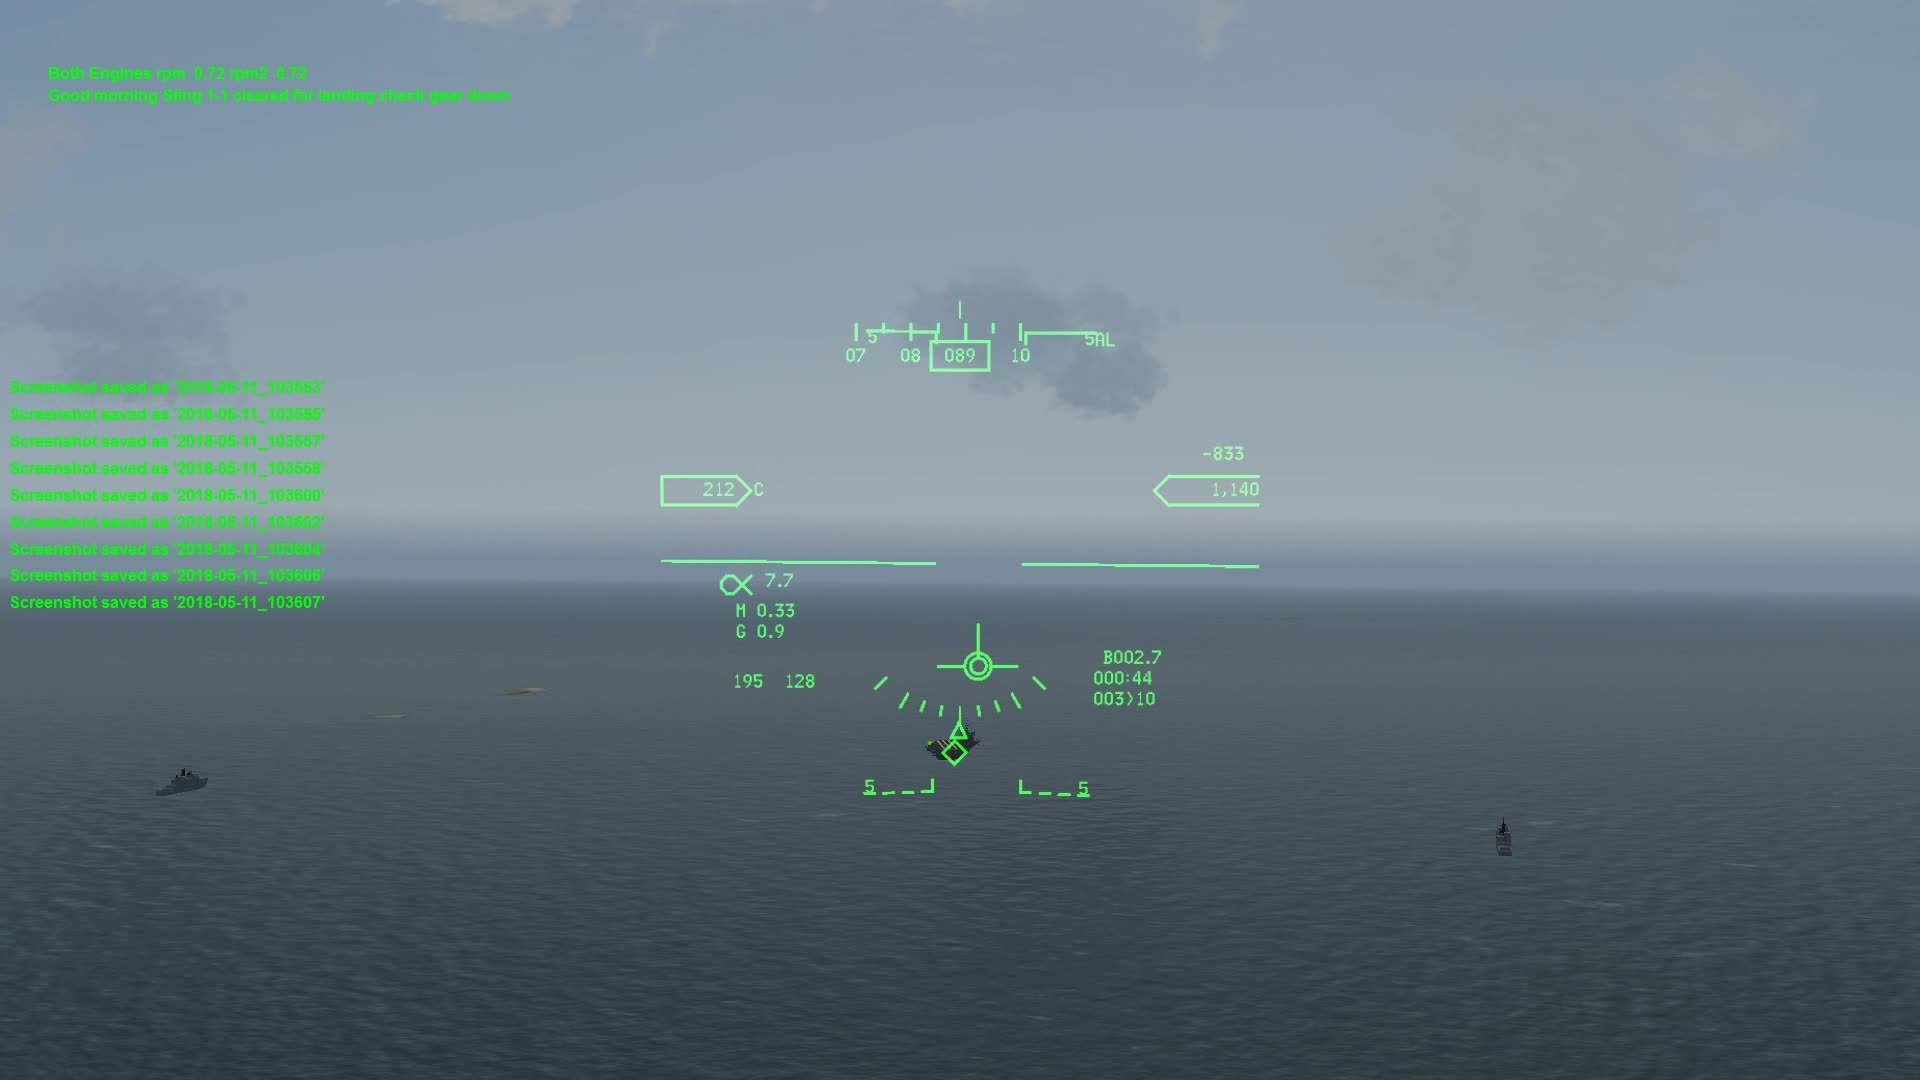speed vector: (935, 618, 1025, 684)
